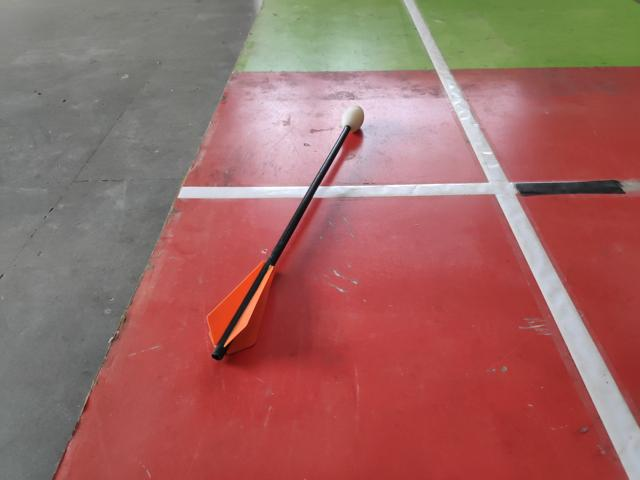Head: (339, 102, 365, 135)
Tail: (202, 258, 276, 364)
